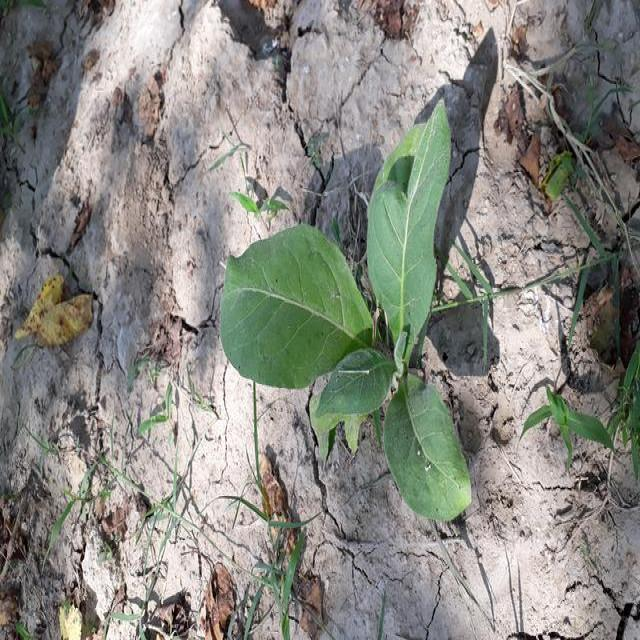crop: (240, 147, 470, 523)
